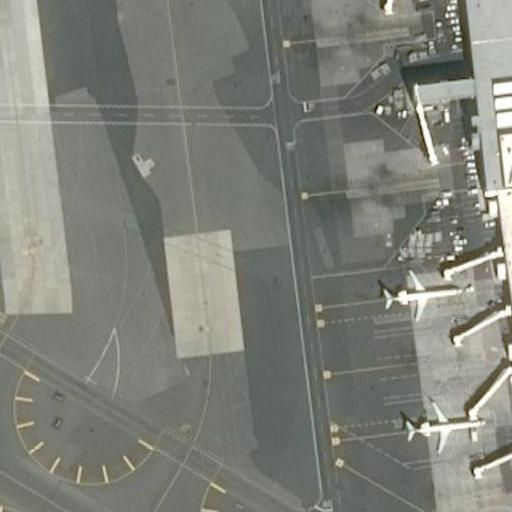Aircraft: (383, 266, 456, 326), (404, 399, 486, 450)
